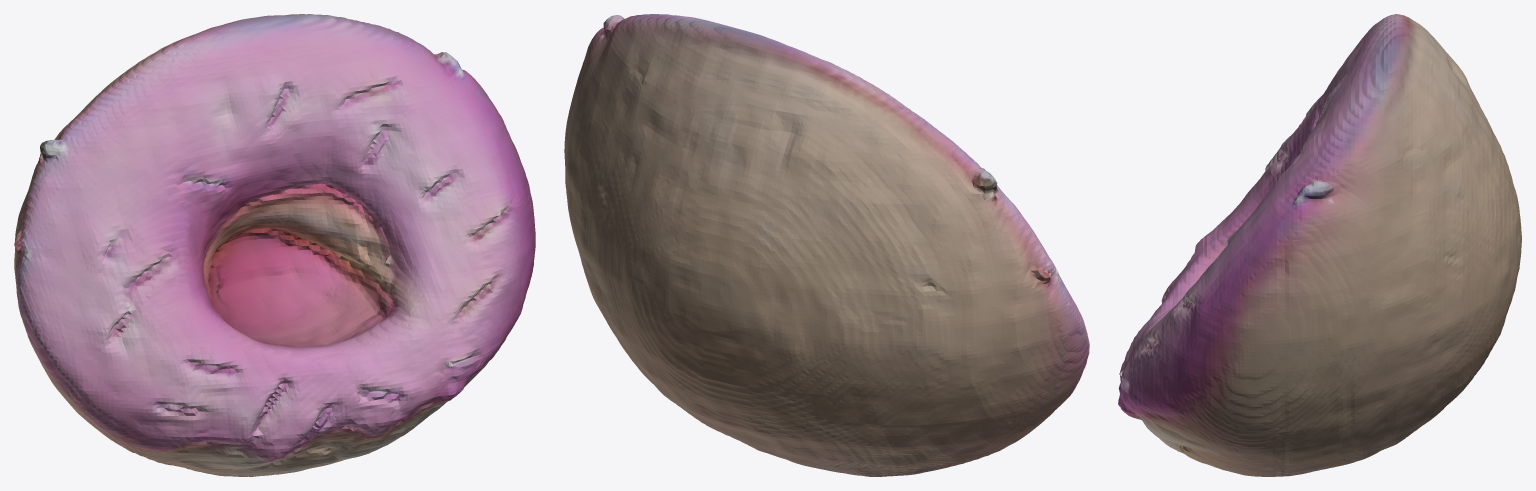
The model's file is donut.glb.
The picture shows the model from 3 angles, left to right: view 1: azimuth 30°, elevation 25°; view 2: azimuth 150°, elevation 25°; view 3: azimuth 270°, elevation 25°; orthographic projection. The views are drawn at different scales.
Parts seen in each view (by area): view 1: geometry_0; view 2: geometry_0; view 3: geometry_0.
Boxes of the visible parts, x1=… form: geometry_0: x1=14, y1=14, x2=535, y2=476; geometry_0: x1=564, y1=14, x2=1089, y2=476; geometry_0: x1=1118, y1=14, x2=1521, y2=476.
Bounding box in the file's own units: 1 × 0.8081 × 0.7088.
